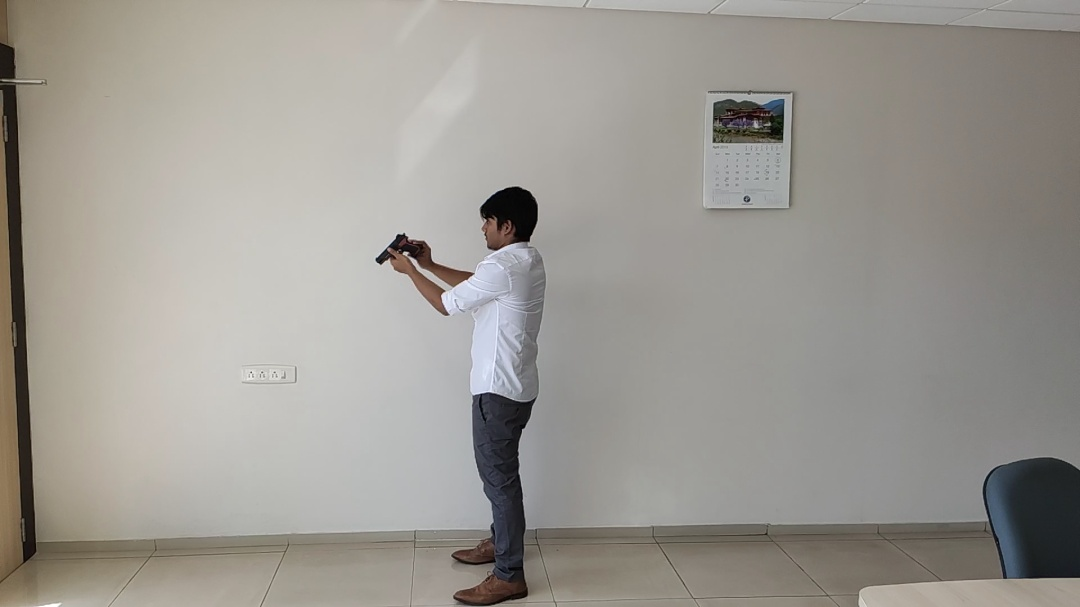gun: (371, 288, 792, 500)
